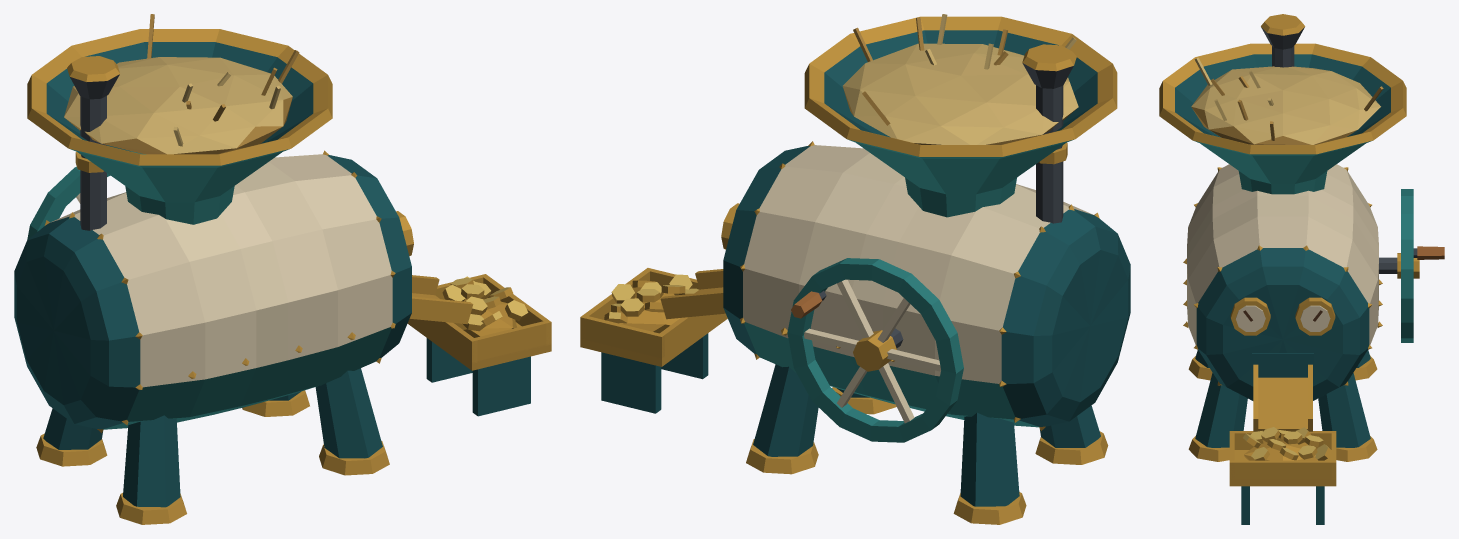
The model's file is hay_press.glb.
3 renders of one model, left to right at view 1: azimuth 30°, elevation 25°; view 2: azimuth 150°, elevation 25°; view 3: azimuth 270°, elevation 25°, orthographic. The views are drawn at different scales.
Parts seen in each view (by area): view 1: hay_press, wheel; view 2: hay_press, wheel; view 3: hay_press, wheel.
Boxes of the visible parts, <box> form: hay_press: <box>14,14,551,524</box>; wheel: <box>27,166,110,239</box>; hay_press: <box>580,14,1130,524</box>; wheel: <box>787,258,963,442</box>; hay_press: <box>1159,14,1406,524</box>; wheel: <box>1397,189,1444,342</box>.
Bounding box in the file's own units: 3.54 × 3.02 × 2.29.
